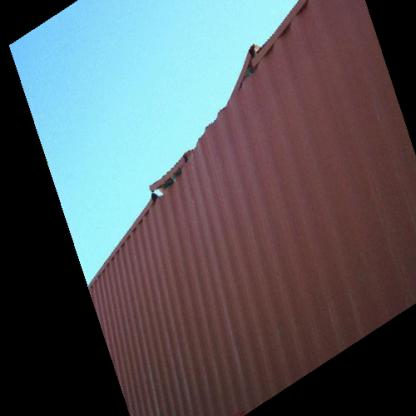Damage: (134, 145, 208, 207), (226, 33, 282, 111)
